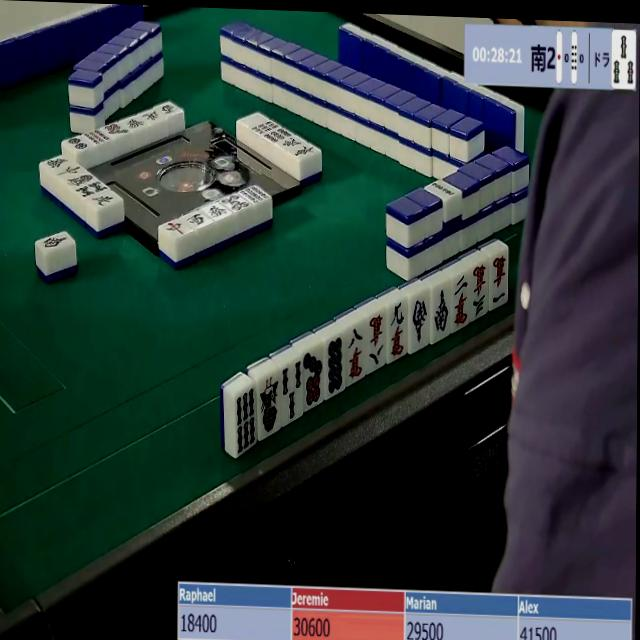1B: (259, 371, 281, 436)
1C: (489, 252, 508, 310)
2C: (451, 274, 472, 331)
3B: (279, 360, 303, 426), (613, 32, 636, 90)
3C: (469, 262, 488, 321)
6B: (232, 387, 260, 459)
7D: (299, 347, 327, 411)
8C: (343, 325, 369, 384), (363, 312, 386, 372)
8D: (324, 336, 347, 397)
9C: (387, 301, 408, 361)
SW: (409, 293, 431, 352), (432, 284, 453, 341)
